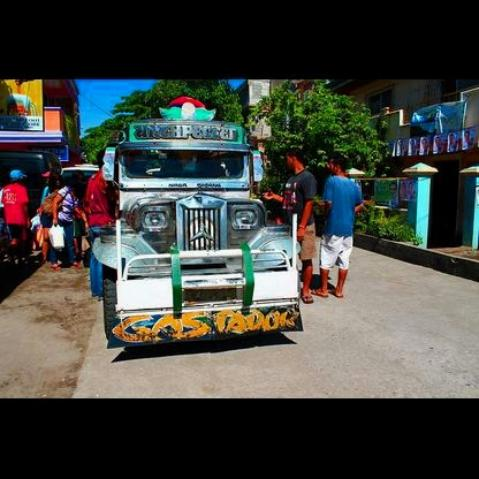jeepney: (85, 102, 307, 350)
